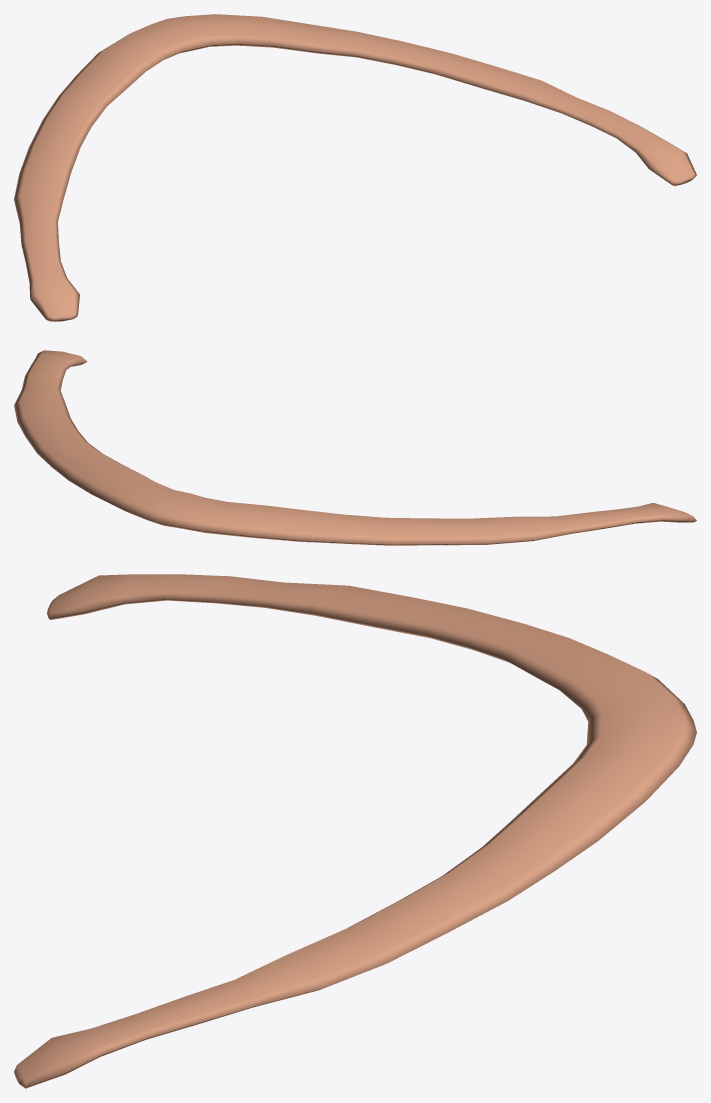
The model's file is Rang_A_Rang_Model.fbx.
3 renders of one model, top to bottom at view 1: azimuth 30°, elevation 25°; view 2: azimuth 150°, elevation 25°; view 3: azimuth 270°, elevation 25°, orthographic. The views are drawn at different scales.
Parts seen in each view (by area): view 1: Rang_a_Rang; view 2: Rang_a_Rang; view 3: Rang_a_Rang.
Boxes of the visible parts, x1=… form: Rang_a_Rang: x1=14, y1=14, x2=696, y2=321; Rang_a_Rang: x1=14, y1=350, x2=696, y2=545; Rang_a_Rang: x1=14, y1=574, x2=696, y2=1088.
Bounding box in the file's own units: 13.45 × 1.7 × 7.93.
